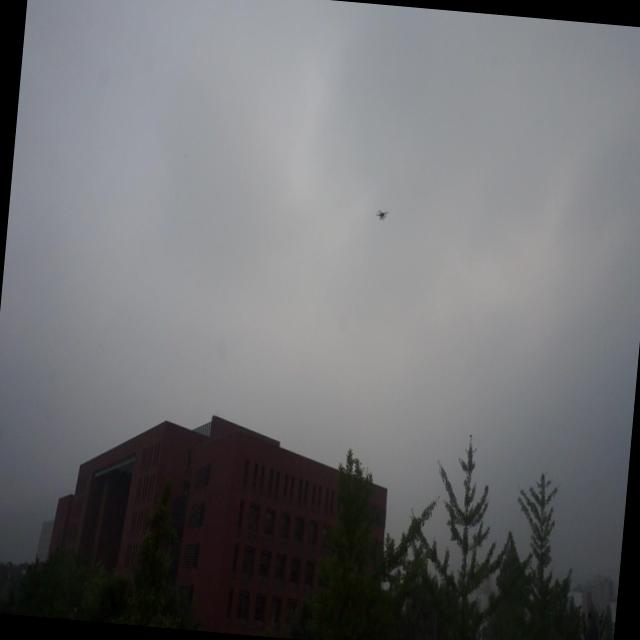drone: (374, 205, 389, 224)
